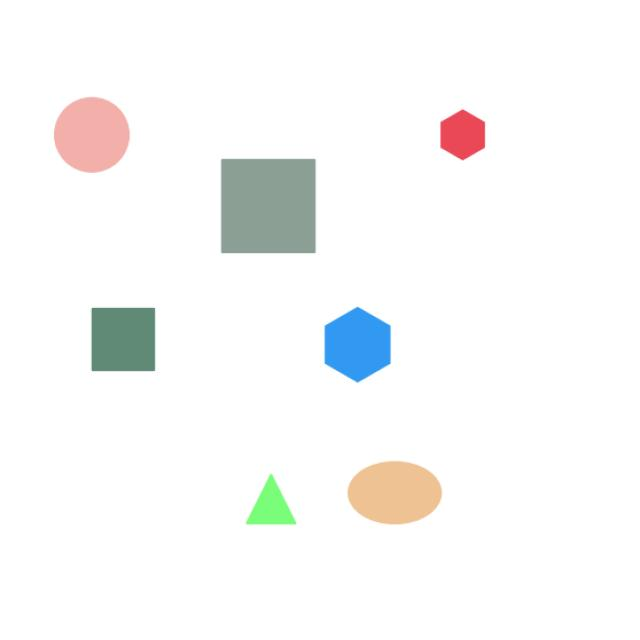Circle: (39, 92, 142, 190)
Hexagon: (305, 296, 403, 388), (418, 95, 512, 183)
Oval: (336, 455, 458, 527)
Triangle: (238, 462, 308, 534)
square: (199, 145, 343, 269), (63, 298, 197, 390)
